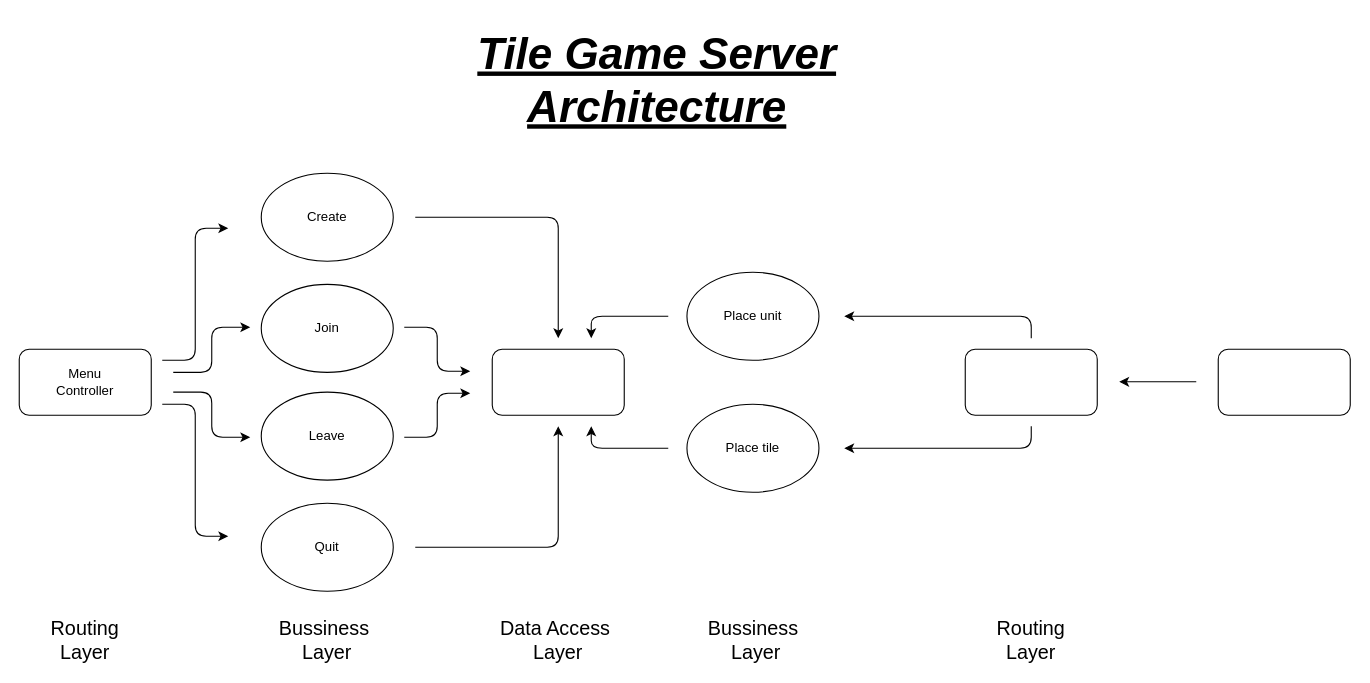
Image size: 1370x683. Some labels were removed from this diagram. Each missing label, with the centre of its shape:
Client: the point at 1283,381
Game hub: the point at 1030,381
ISesionRepository: the point at 557,381
